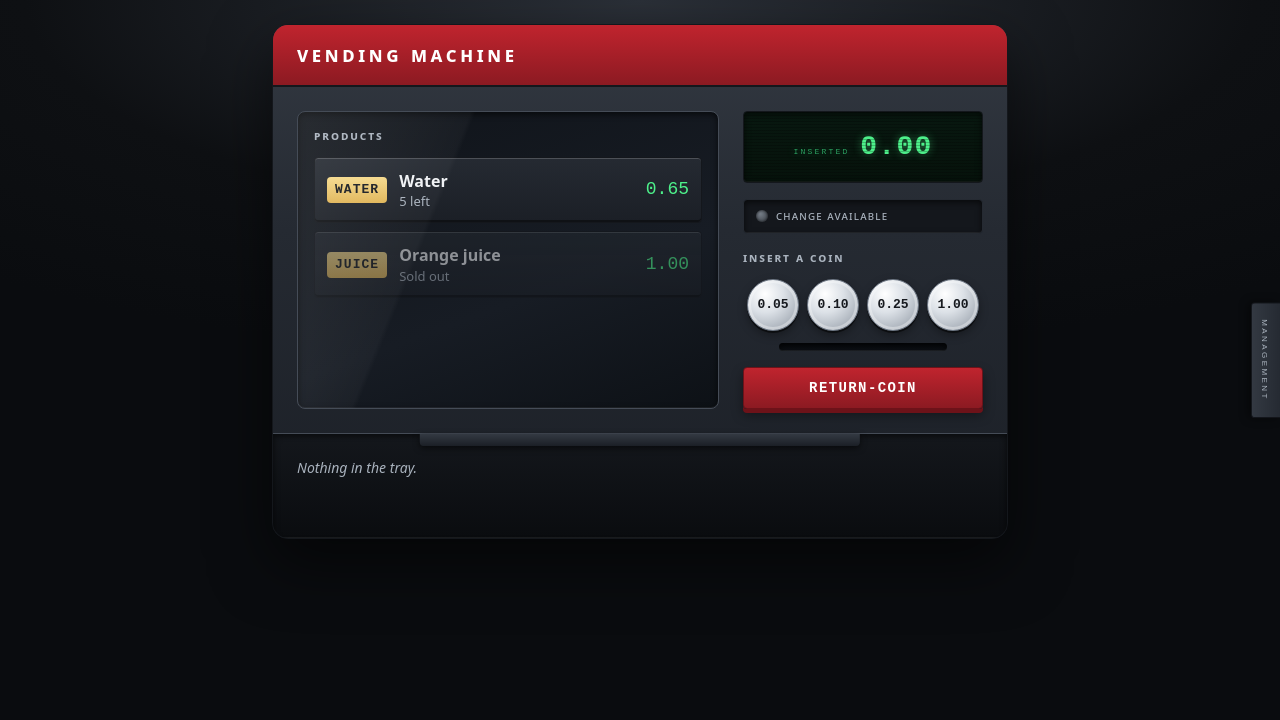
Test: MachinePage › offers the customer what the machine takes and the technician everything it reads
The width and height of the screenshot is (1280, 720).
Expected: the button "WATER Water 0.65 5 left" is shown, [314,157,702,223]
Click the button "Management" at (1266, 360), box [1251,302,1279,418]
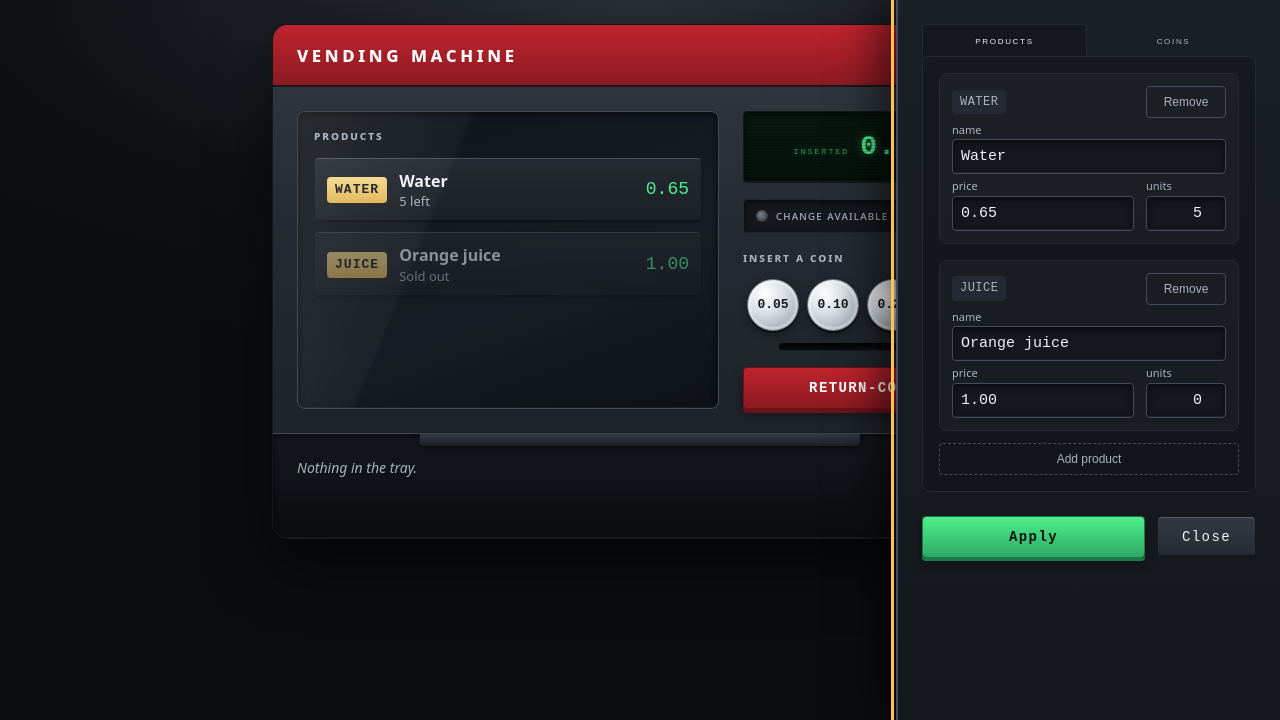
Click the tab "Coins" at (1174, 40), box [1091,24,1256,56]
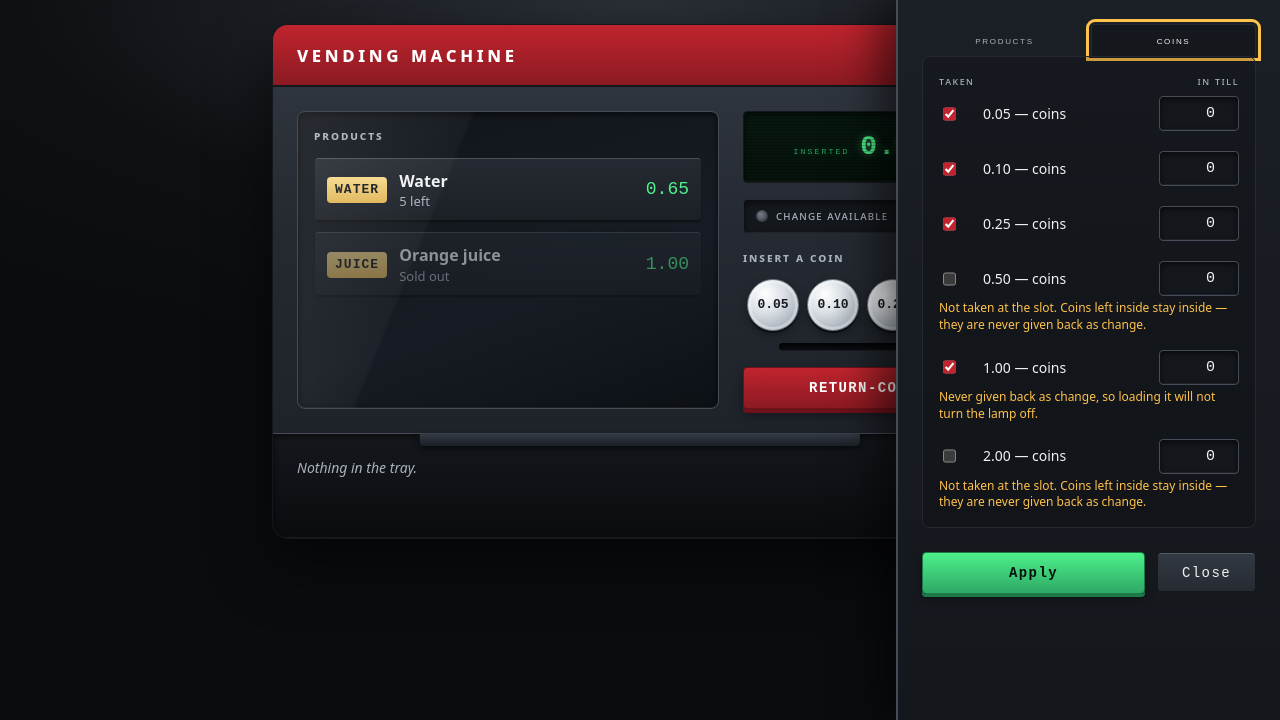
Expected: the number of checkboxes is 6, [943,105,956,123]; [943,160,956,178]; [943,215,956,233]; [943,270,956,288]; [943,358,956,376]; [943,447,956,465]
